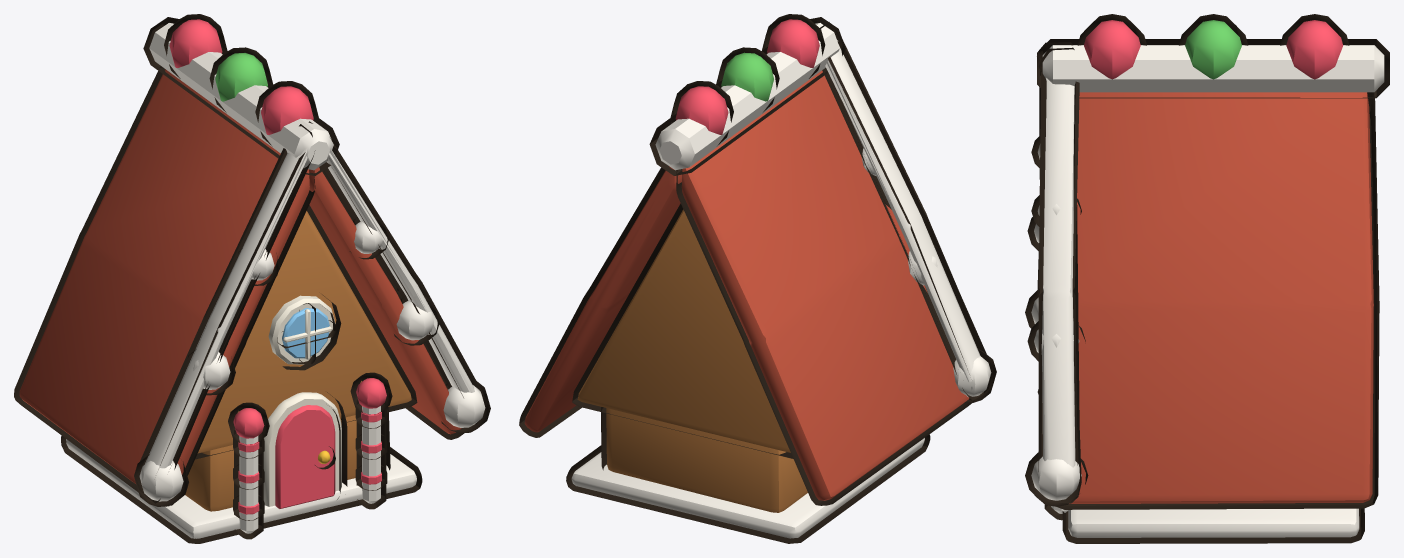
The model's file is house-6.glb.
The picture shows the model from 3 angles, left to right: view 1: azimuth 30°, elevation 25°; view 2: azimuth 150°, elevation 25°; view 3: azimuth 270°, elevation 25°; orthographic projection. The views are drawn at different scales.
Parts seen in each view (by area): view 1: house-6; view 2: house-6; view 3: house-6.
Part boxes in pixels (<box>): house-6: <box>14,14,490,543</box>; house-6: <box>519,14,996,543</box>; house-6: <box>1025,14,1389,543</box>.
Size of the model in its own units: 3.55 by 4.08 by 2.88.
